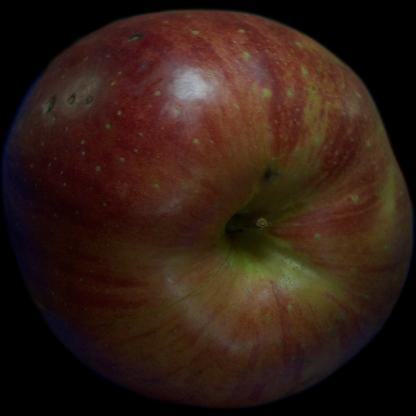defect: (36, 39, 236, 153)
